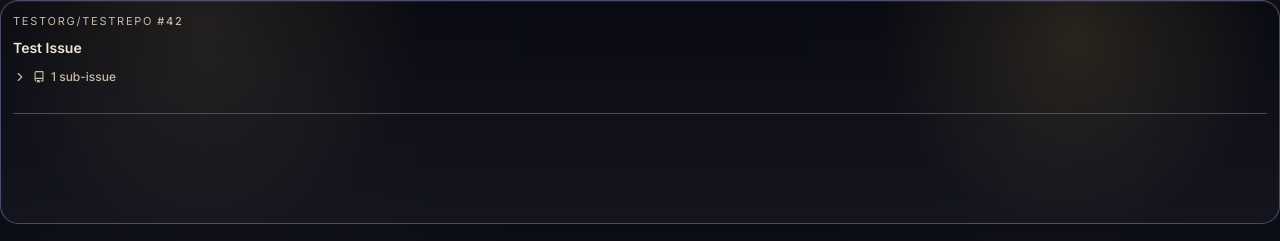
Test: IssueCard › sets aria-expanded on the sub-issues toggle button
What coordinates should you click on to do the following:
click the button
I would click on:
 (86, 76)
Its box is [13,69,1267,85].
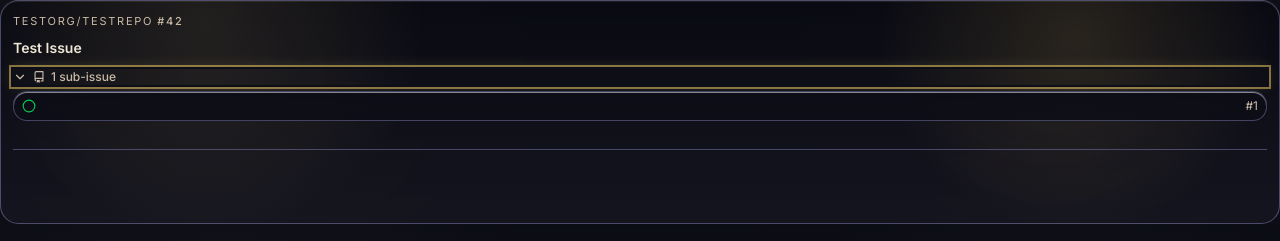
Check: the button is expanded, box [13,69,1267,85]
